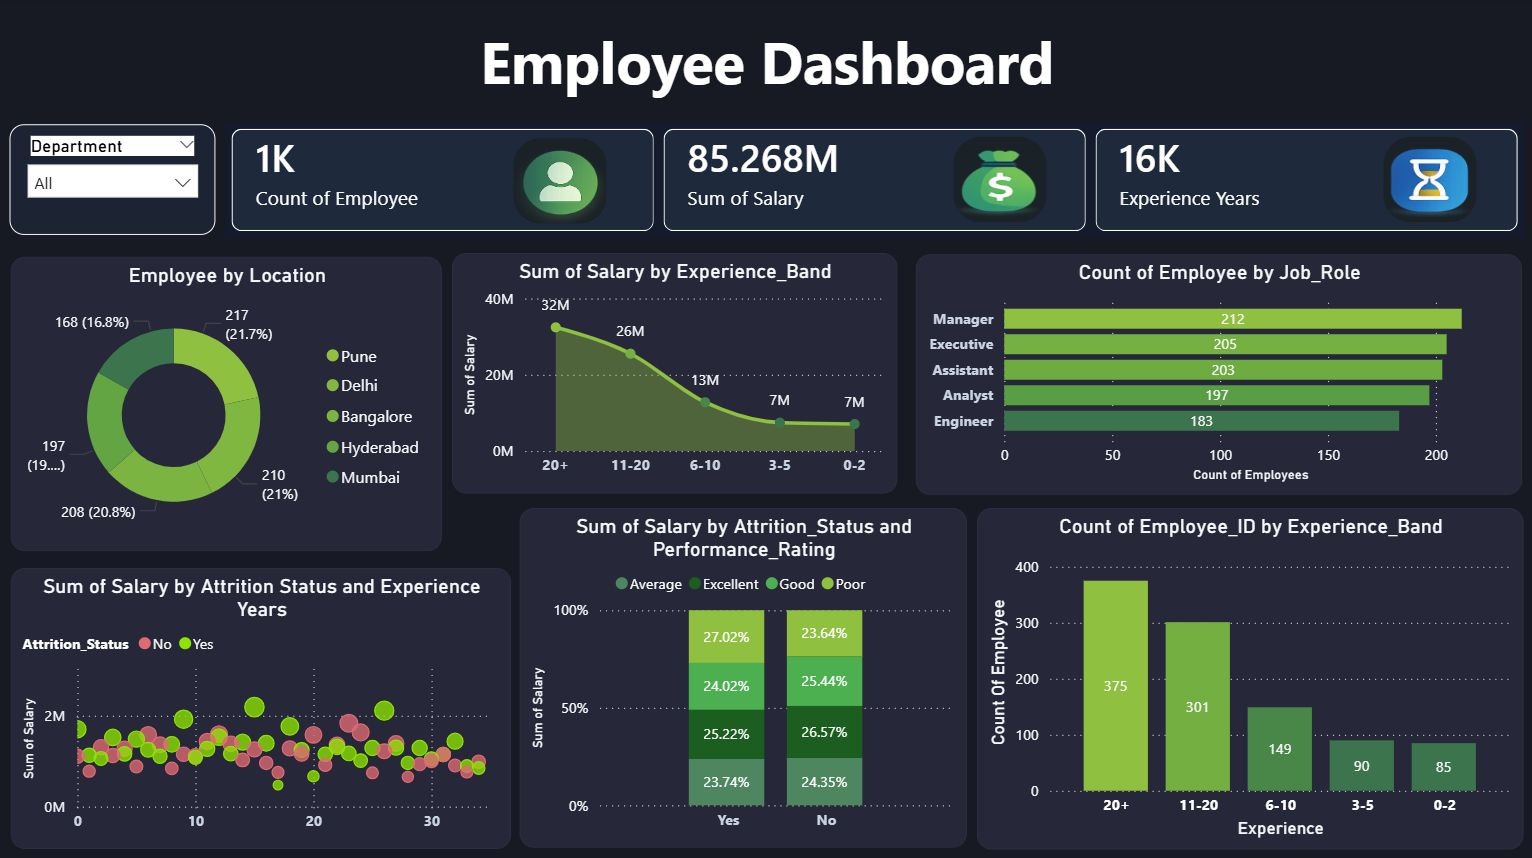

The dashboard page shown, as its layout file describes it:
{"tool":"powerbi","page":{"name":"Page 4","canvas":[1280,720],"ordinal":3},"visuals":[{"type":"cardVisual","fields":{"Data":["CountNonNull(Employee.Employee_ID)","Sum(Fact.Salary)","Sum(Fact.Experience_Years)"]},"box":[190.7,103.5,1081.4,95.3],"z":0,"group":"g1"},{"type":"slicer","fields":{"Values":["Department.Department"]},"box":[10.7,104.8,171.4,91.7],"z":0},{"type":"image","box":[795.8,115.1,77.8,71],"z":1000,"group":"g1"},{"type":"areaChart","fields":{"Category":["Fact.Experience_Band"],"Y":["Sum(Fact.Salary)"]},"box":[378.8,212.5,370,200],"z":1000},{"type":"image","box":[1152.6,115.1,77.8,71],"z":2000,"group":"g1"},{"type":"barChart","title":"Count of Employee by Job_Role","fields":{"Y":["CountNonNull(Fact.Employee_ID)"],"Category":["Job.Job_Role"]},"box":[764.3,212.9,504.3,200],"z":2000},{"type":"image","box":[429.8,115.8,77.8,71],"z":3000,"group":"g1"},{"type":"donutChart","title":"Employee by Location","fields":{"Category":["Location.Work_Location"],"Y":["CountNonNull(Fact.Employee_ID)"]},"box":[11.2,215,358.8,245],"z":4000},{"type":"scatterChart","title":"Sum of Salary by Attrition Status and Experience Years","fields":{"X":["Fact.Experience_Years"],"Y":["Sum(Fact.Salary)"],"Series":["Fact.Attrition_Status"],"Size":["Sum(Fact.Salary)"]},"box":[11.2,473.8,416.2,233.8],"z":5000},{"type":"columnChart","fields":{"Category":["Experience.Experience_Band"],"Y":["Count(Employee.Employee_ID)"]},"box":[814.3,424.3,454.3,284.3],"z":6000},{"type":"textbox","box":[11.3,14.5,1258.1,79],"z":7000},{"type":"group","id":"g1","title":"Group 1","box":[190.7,103.5,1081.4,95.3],"z":8000},{"type":"hundredPercentStackedColumnChart","fields":{"Y":["Sum(Fact.Salary)"],"Category":["Fact.Attrition_Status"],"Series":["Fact.Performance_Rating"]},"box":[434.9,424.4,372.1,282.6],"z":9000}]}

Visuals, with their boxes in screenshot pixels (x1, y1, x2, y2), scaled from the page's 1280x720 canvas onto the 1532x858 screenshot:
cardVisual - CountNonNull(Employee.Employee_ID) x Sum(Fact.Salary): detection(228, 123, 1523, 237)
slicer - Department.Department: detection(13, 125, 218, 234)
image: detection(952, 137, 1046, 222)
areaChart - Fact.Experience_Band x Sum(Fact.Salary): detection(453, 253, 896, 492)
image: detection(1380, 137, 1473, 222)
"Count of Employee by Job_Role" barChart: detection(915, 254, 1518, 492)
image: detection(514, 138, 608, 223)
"Employee by Location" donutChart: detection(13, 256, 443, 548)
"Sum of Salary by Attrition Status and Experience Years" scatterChart: detection(13, 565, 512, 843)
columnChart - Experience.Experience_Band x Count(Employee.Employee_ID): detection(975, 506, 1518, 844)
textbox: detection(14, 17, 1519, 111)
"Group 1" group: detection(228, 123, 1523, 237)
hundredPercentStackedColumnChart - Sum(Fact.Salary) x Fact.Attrition_Status: detection(521, 506, 966, 843)
